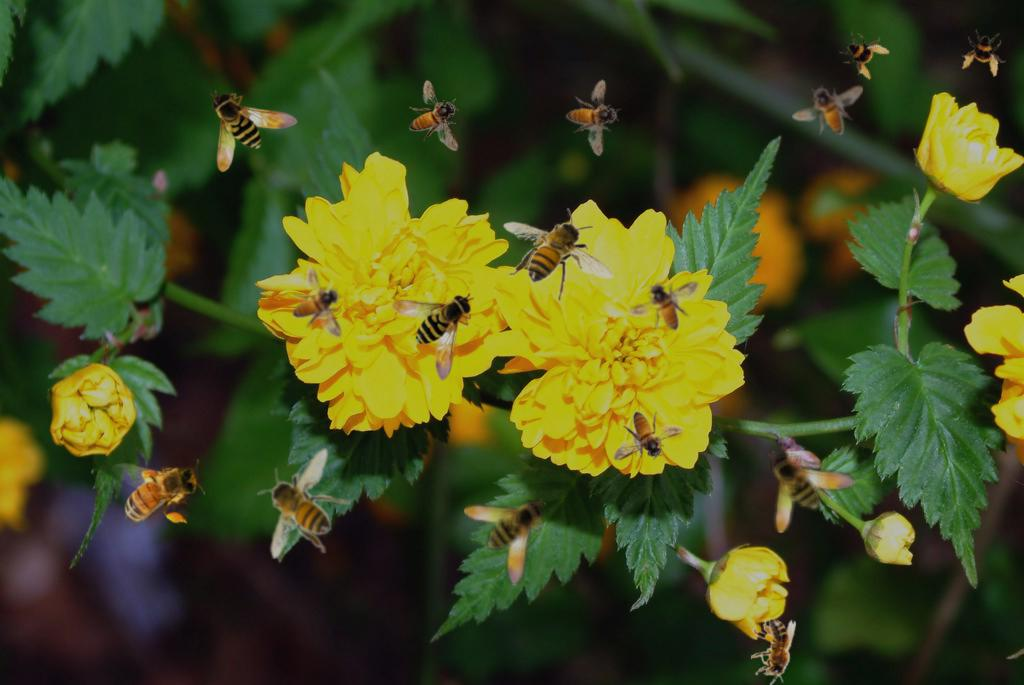Bee: (503, 208, 614, 302), (257, 448, 351, 559), (210, 90, 298, 172), (464, 498, 546, 586), (768, 451, 856, 533), (392, 293, 474, 381), (555, 71, 633, 158), (112, 459, 205, 527), (833, 22, 895, 84), (409, 80, 459, 151), (292, 267, 342, 338), (628, 281, 699, 331), (613, 411, 684, 461), (792, 85, 863, 135), (751, 619, 796, 685), (959, 27, 1011, 79)
